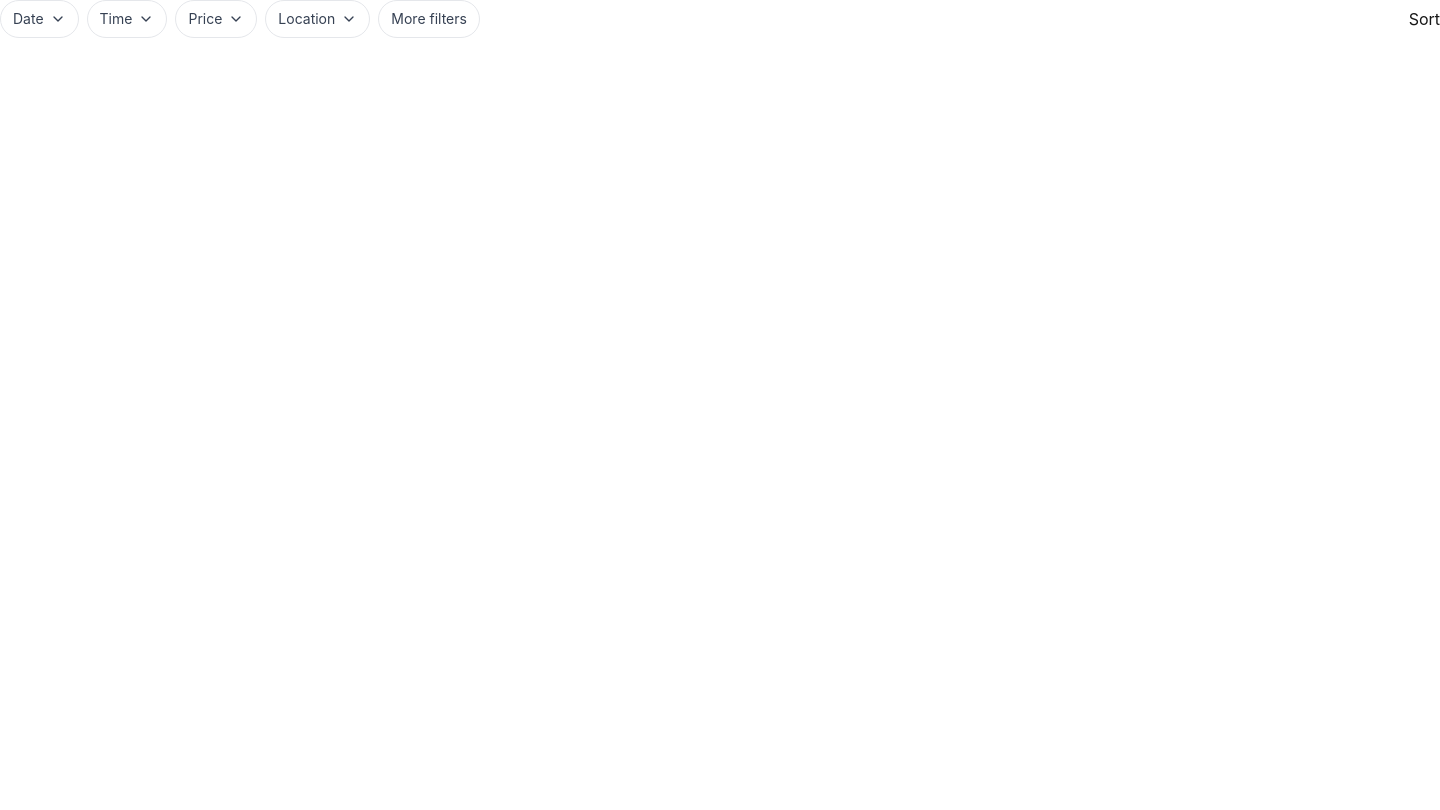
Test: FilterBar › portals the MoreFiltersModal into document.body when open on the client
Click the button "More filters": [429, 19] box [378, 0, 480, 38]
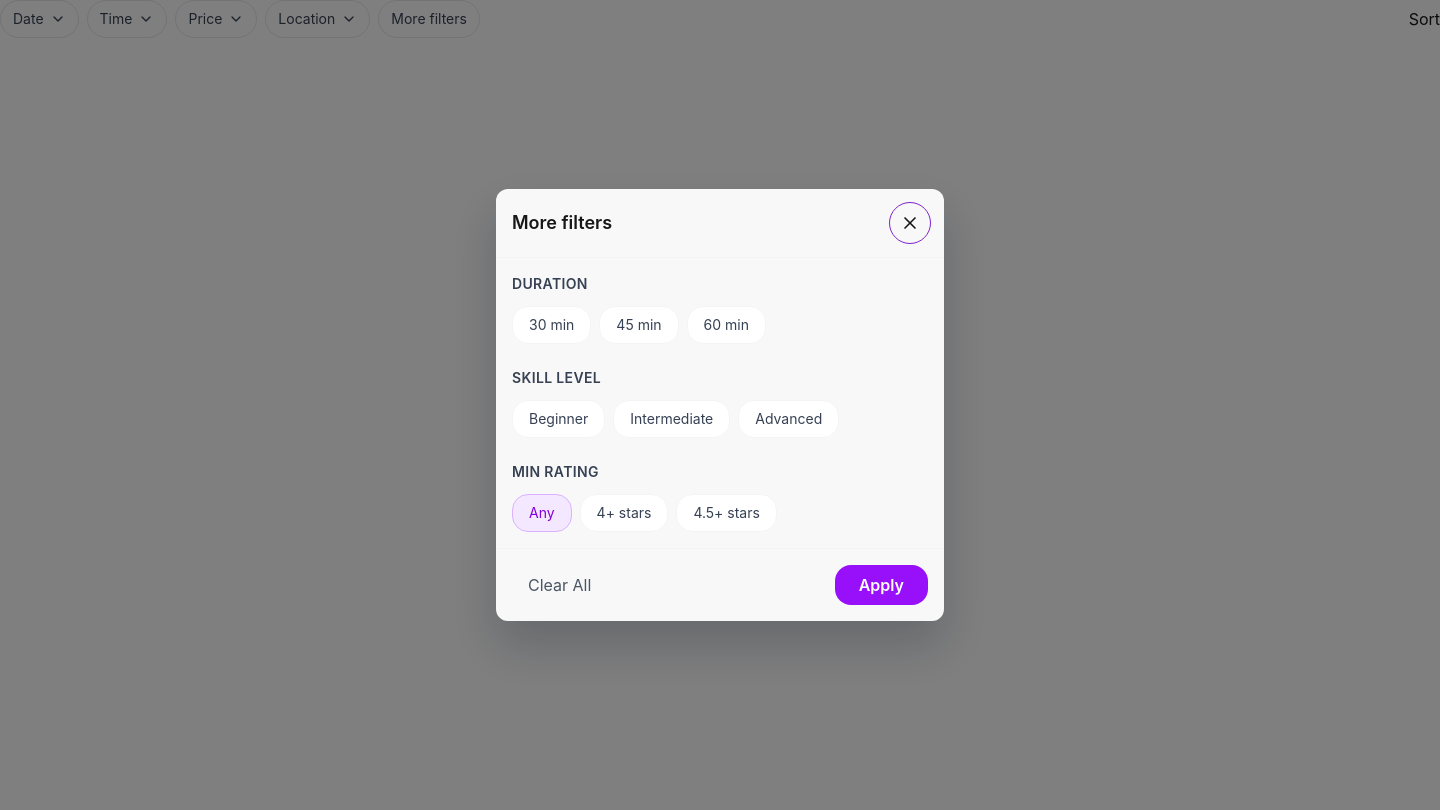
expect the dialog "More filters" is shown: met, box [496, 189, 944, 621]
